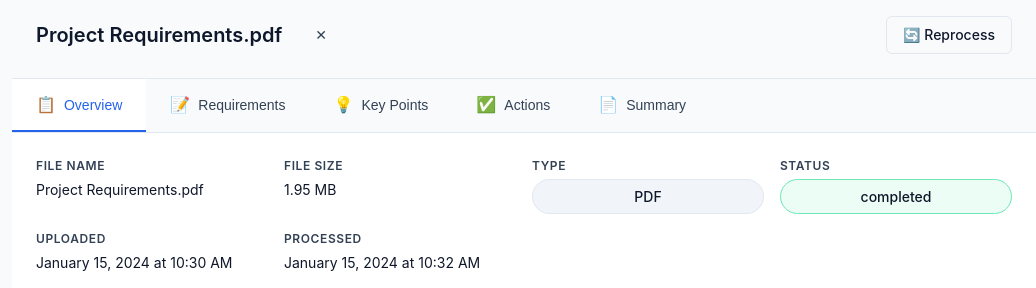
Scenario: DocumentViewer › handles document without analysis
# Switch to requirements tab
Click the text "Requirements" at {"x": 242, "y": 104}, box x1=198 y1=96 x2=286 y2=112
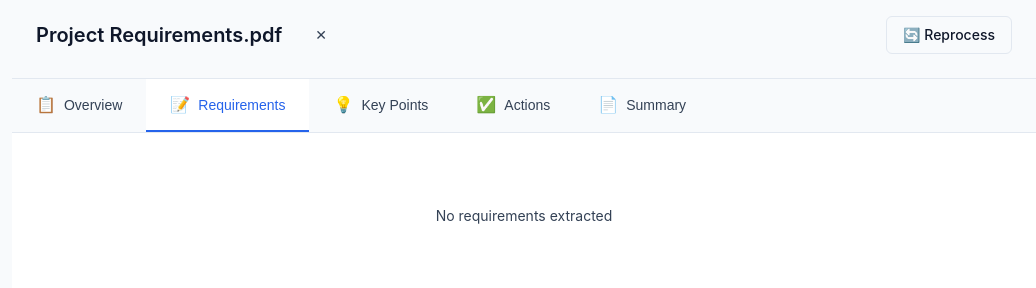
Expected: the text "No requirements extracted" is shown, x1=436 y1=207 x2=612 y2=224
